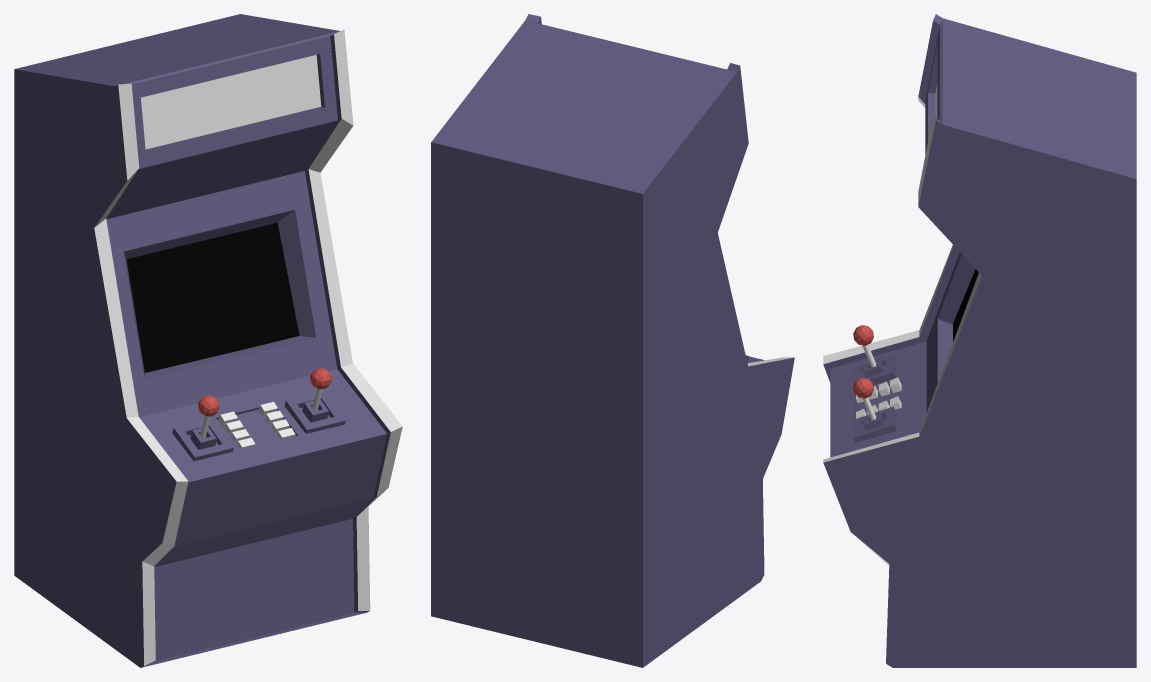
File: Arcade.fbx
3 views of the same model, side by side, from view 1: azimuth 30°, elevation 25°; view 2: azimuth 150°, elevation 25°; view 3: azimuth 270°, elevation 25° (orthographic). The views are drawn at different scales.
Parts seen in each view (by area): view 1: Plane_Plane.134; view 2: Plane_Plane.134; view 3: Plane_Plane.134.
Boxes of the visible parts, box(x1,y1,x2,y2) form: Plane_Plane.134: box(14, 14, 402, 667); Plane_Plane.134: box(431, 14, 794, 667); Plane_Plane.134: box(823, 14, 1136, 667).
Bounding box in the file's own units: 124 × 297 × 154.
